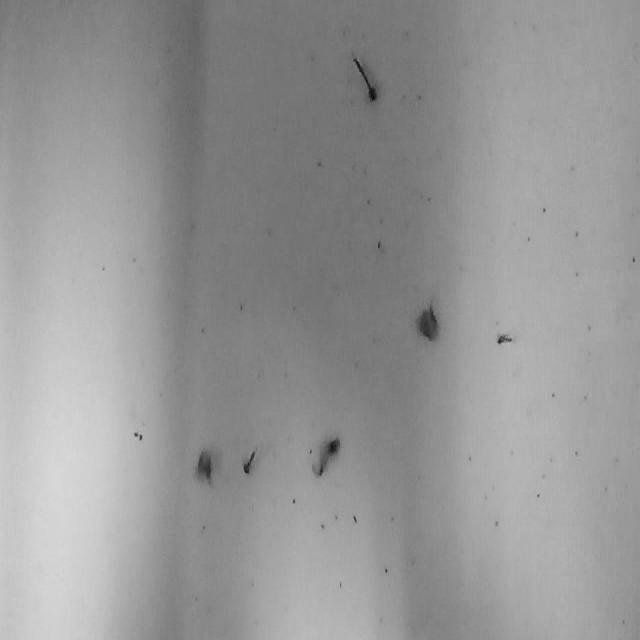larvas: (352, 55, 377, 101), (312, 437, 339, 475), (420, 304, 438, 340), (198, 451, 211, 481), (243, 448, 256, 472), (496, 333, 512, 343)
